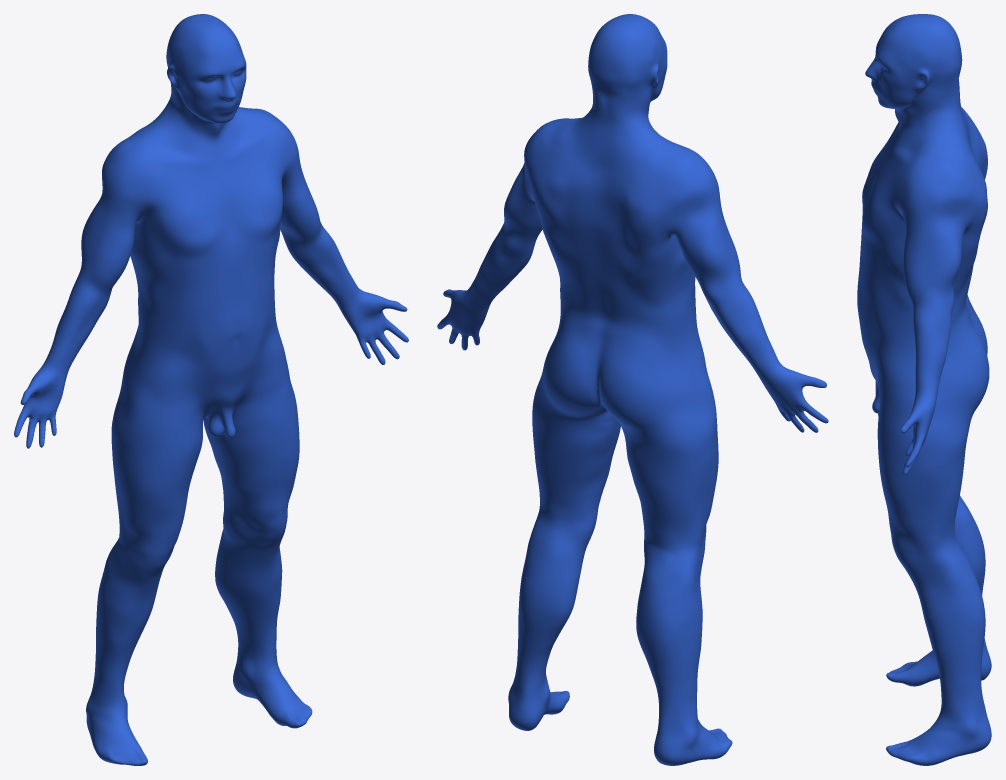
Rendered from vh_m_skin-80.glb.
The picture shows the model from 3 angles, left to right: view 1: azimuth 30°, elevation 25°; view 2: azimuth 150°, elevation 25°; view 3: azimuth 270°, elevation 25°; orthographic projection. The views are drawn at different scales.
Parts seen in each view (by area): view 1: VH_M_skin; view 2: VH_M_skin; view 3: VH_M_skin.
Part boxes in pixels (x1,y1,x2,y2): VH_M_skin: (14,14,408,765); VH_M_skin: (437,14,828,765); VH_M_skin: (857,14,991,765).
Bounding box in the file's own units: 1.05 × 1.83 × 0.3162.
